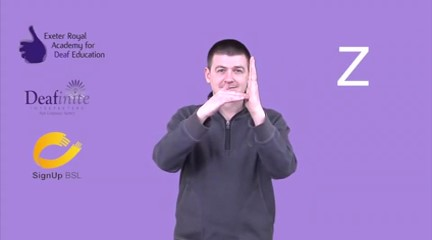Z: (194, 50, 273, 135)
